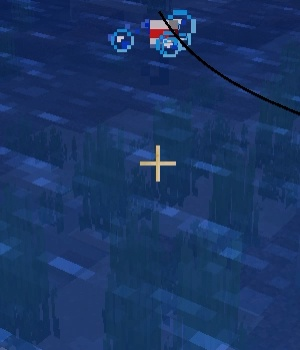up: (141, 13, 184, 73)
